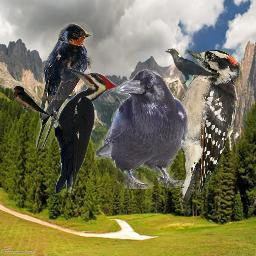Crow: (94, 68, 188, 189), (164, 48, 218, 85)
Swallow: (33, 22, 93, 149), (12, 85, 51, 116)
Woodpecker: (161, 50, 243, 216), (53, 67, 120, 193)
